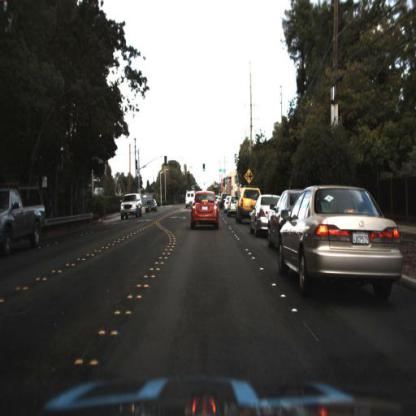car: (275, 181, 408, 306), (1, 188, 49, 259), (187, 186, 225, 237), (268, 185, 290, 259), (252, 184, 271, 246), (116, 188, 145, 227), (234, 181, 252, 231), (219, 192, 231, 215), (146, 198, 160, 216)
trafficLight-Green: (202, 157, 207, 179)
trafficLight-Red: (185, 168, 191, 183)
